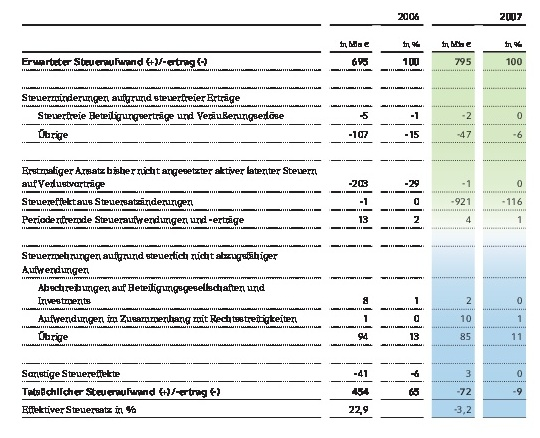table: (0, 0, 540, 438)
